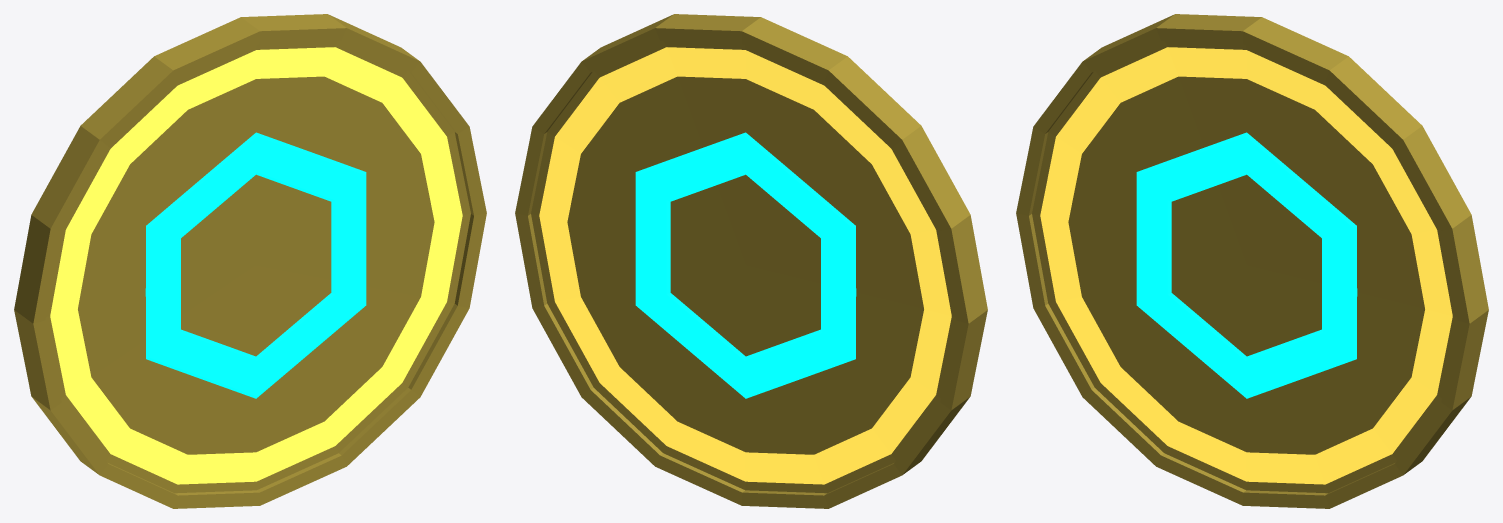
Rendered from coin-gold.glb.
3 renders of one model, left to right at view 1: azimuth 30°, elevation 25°; view 2: azimuth 150°, elevation 25°; view 3: azimuth 330°, elevation 25°, orthographic.
Parts seen in each view (by area): view 1: parkour-coin; view 2: parkour-coin; view 3: parkour-coin.
Part boxes in pixels (box(x1,y1,x2,y2)): parkour-coin: box(14, 14, 486, 508); parkour-coin: box(515, 14, 987, 508); parkour-coin: box(1016, 14, 1488, 508).
Size of the model in its own units: 2.12 by 2.12 by 0.1558.
